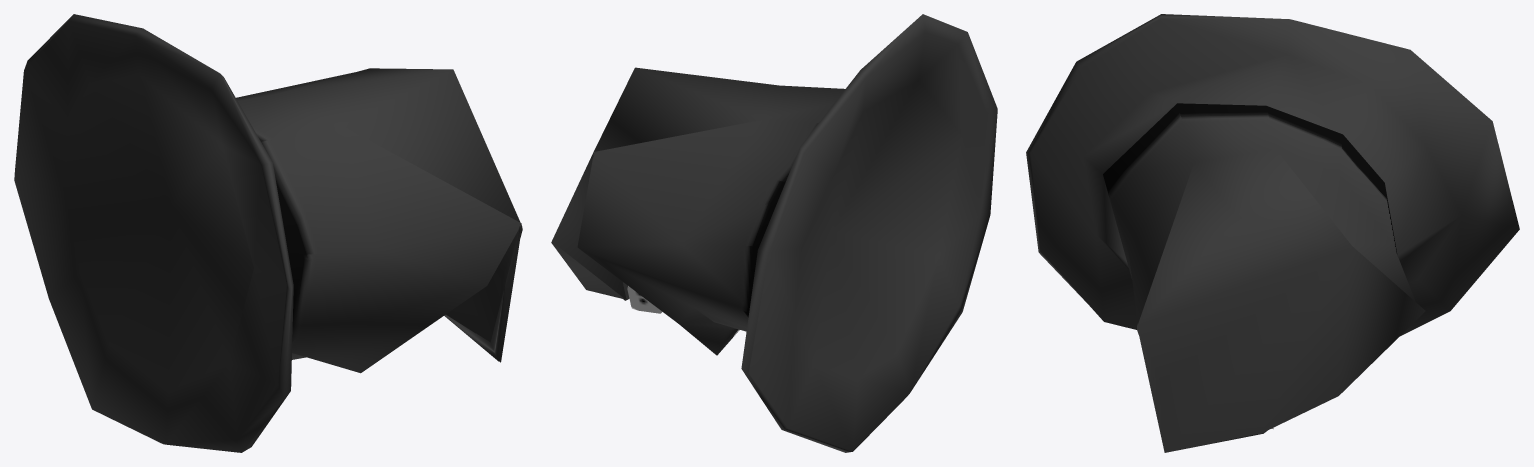
Rendered from Gibus2.fbx.
3 renders of one model, left to right at view 1: azimuth 30°, elevation 25°; view 2: azimuth 150°, elevation 25°; view 3: azimuth 270°, elevation 25°, orthographic. The views are drawn at different scales.
Visible parts, largest first — view 1: Gibus2; view 2: Gibus2; view 3: Gibus2.
Boxes of the visible parts, x1,y1,x2,y2 form: Gibus2: [14, 14, 522, 452]; Gibus2: [551, 14, 997, 452]; Gibus2: [1026, 14, 1519, 452].
Size of the model in its own units: 0.1413 by 0.1743 by 0.2184.
